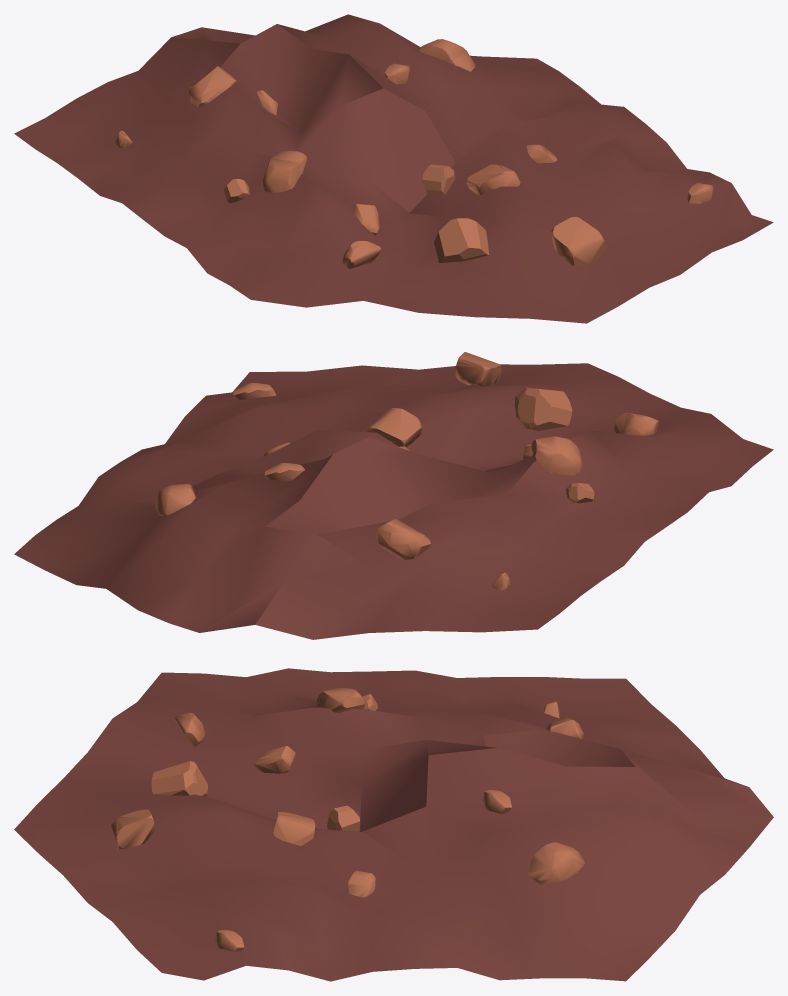
The model's file is Compost_Seco.fbx.
3 renders of one model, top to bottom at view 1: azimuth 30°, elevation 25°; view 2: azimuth 150°, elevation 25°; view 3: azimuth 270°, elevation 25°, orthographic.
Visible parts, largest first — view 1: Compost_Seco; view 2: Compost_Seco; view 3: Compost_Seco.
Boxes of the visible parts, bbox=[...] form: Compost_Seco: bbox=[14, 14, 773, 323]; Compost_Seco: bbox=[14, 352, 773, 639]; Compost_Seco: bbox=[14, 668, 773, 981].
Size of the model in its own units: 377 by 78.5 by 482.
